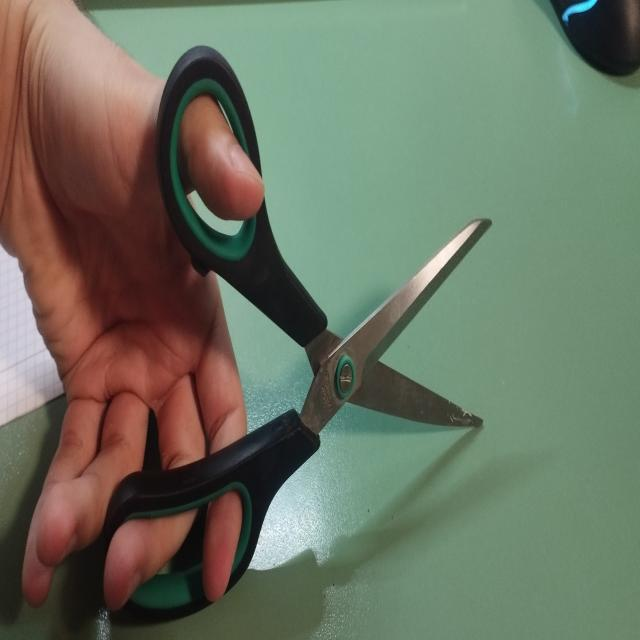tesoura: (95, 35, 496, 628)
